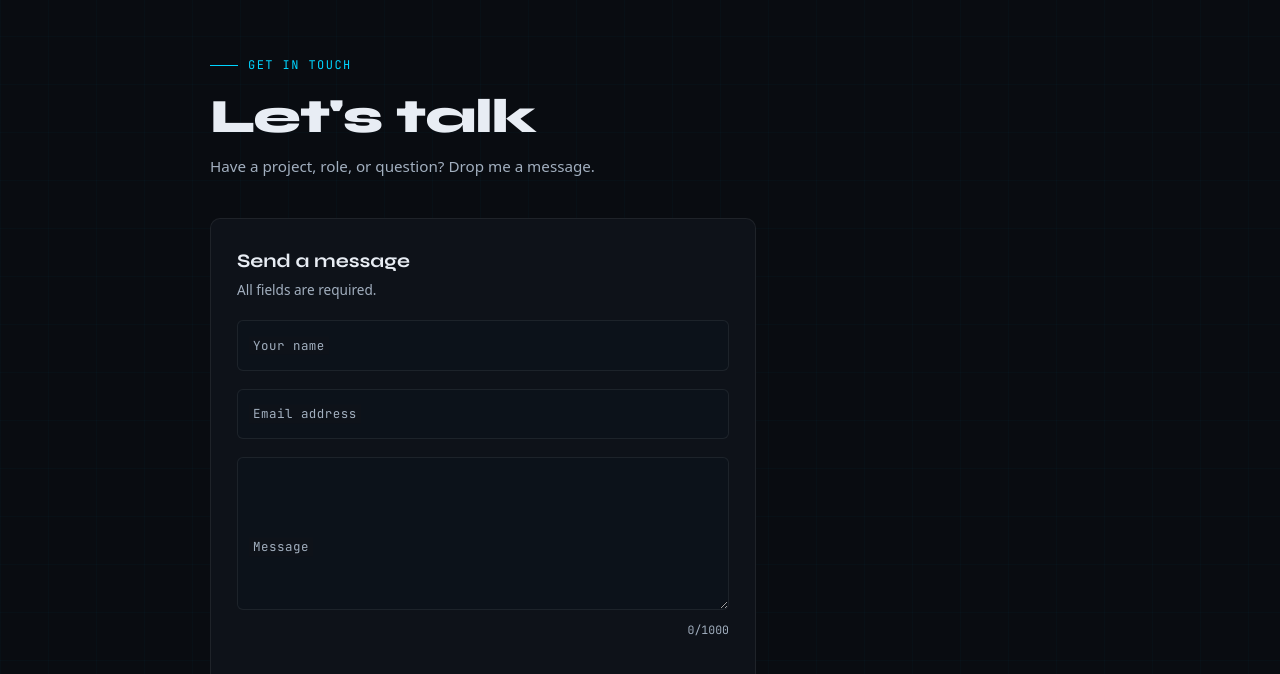
Test: Contact › submits normalized data when captcha and API request succeed
Type "  Max Petrykin  " into the field named "your name".
click(483, 346); type("  Max Petrykin  ")  # box [237,320,729,371]
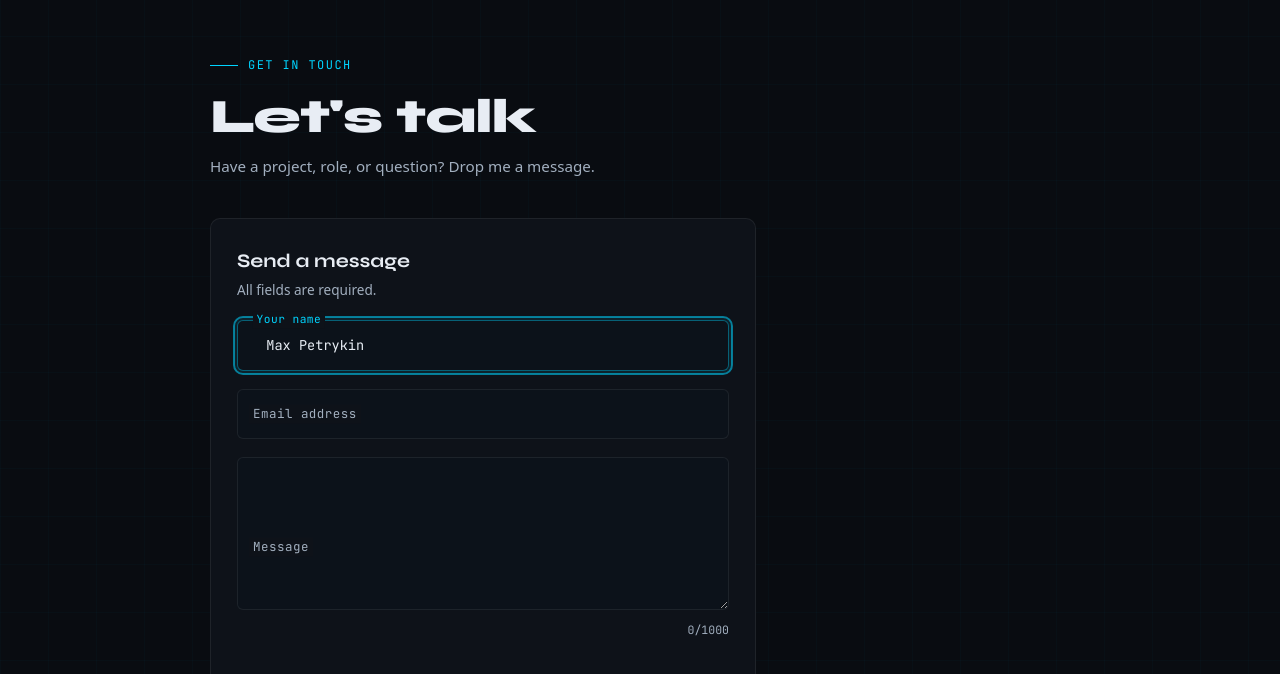
Type "MAX@EXAMPLE.COM" into the field named "email address".
click(483, 414); type("MAX@EXAMPLE.COM")  # box [237,389,729,439]
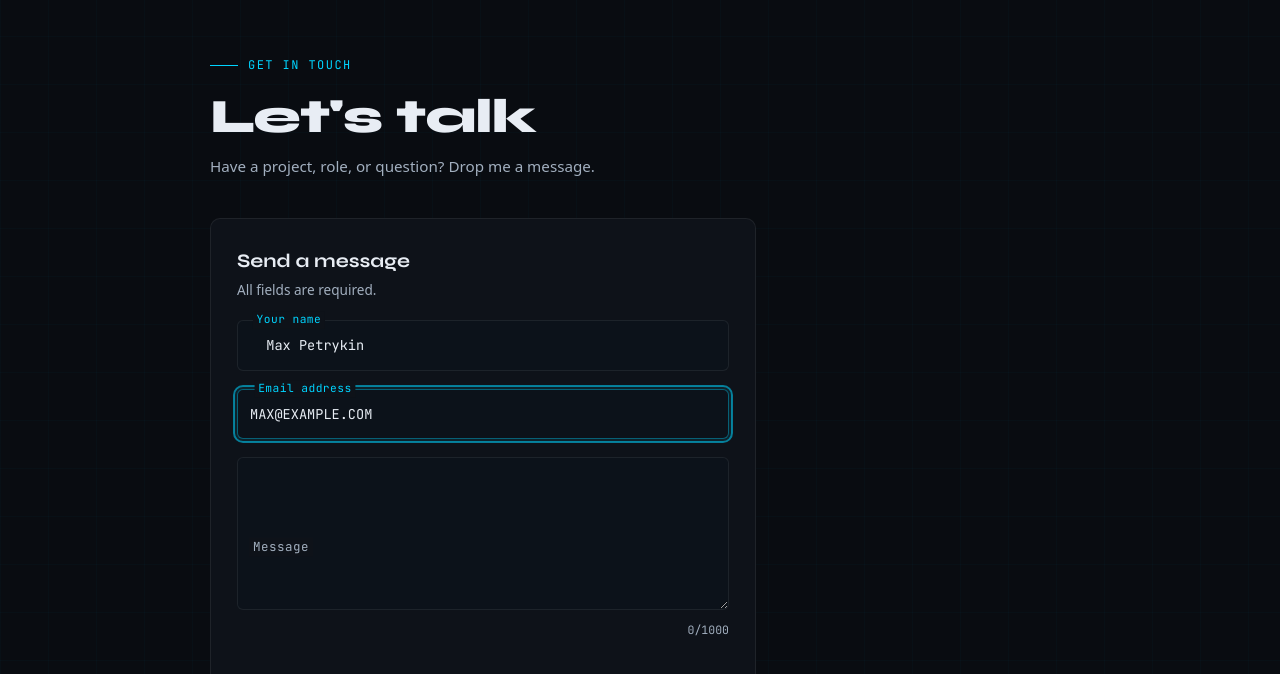
Type "  Please tell me more about the project.  " into the text box named "message".
click(483, 533); type("  Please tell me more about the project.  ")  # box [237,457,729,610]
(page scrolled)
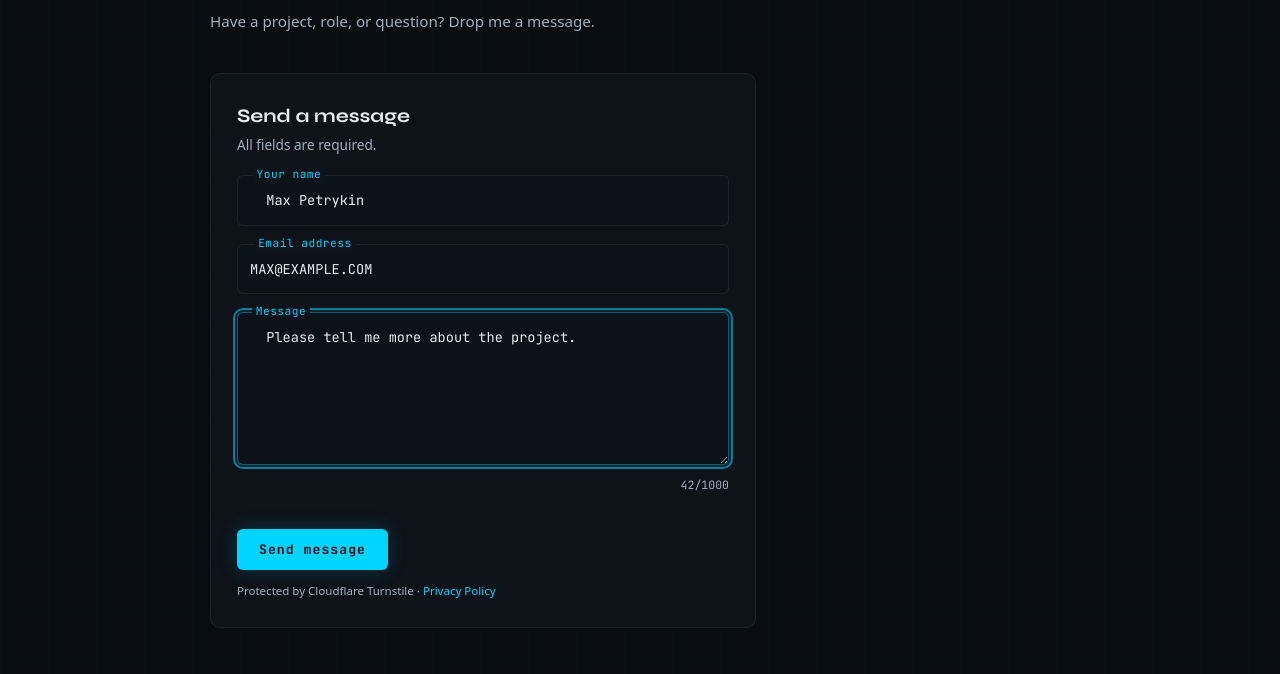
Check: the button "Send message" is enabled
Click the button "Send message".
click(312, 549)  # box [237,529,388,570]
(page scrolled)
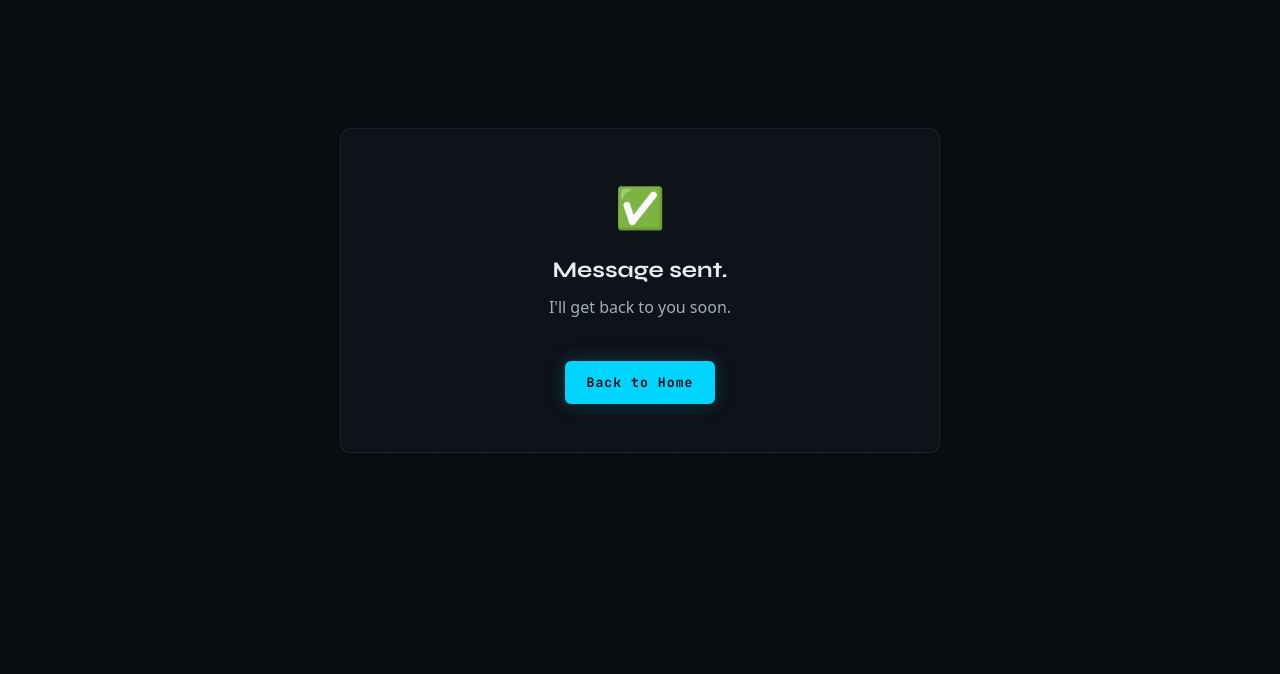
Check: the heading "Message sent." is shown, box [552,256,728,283]
